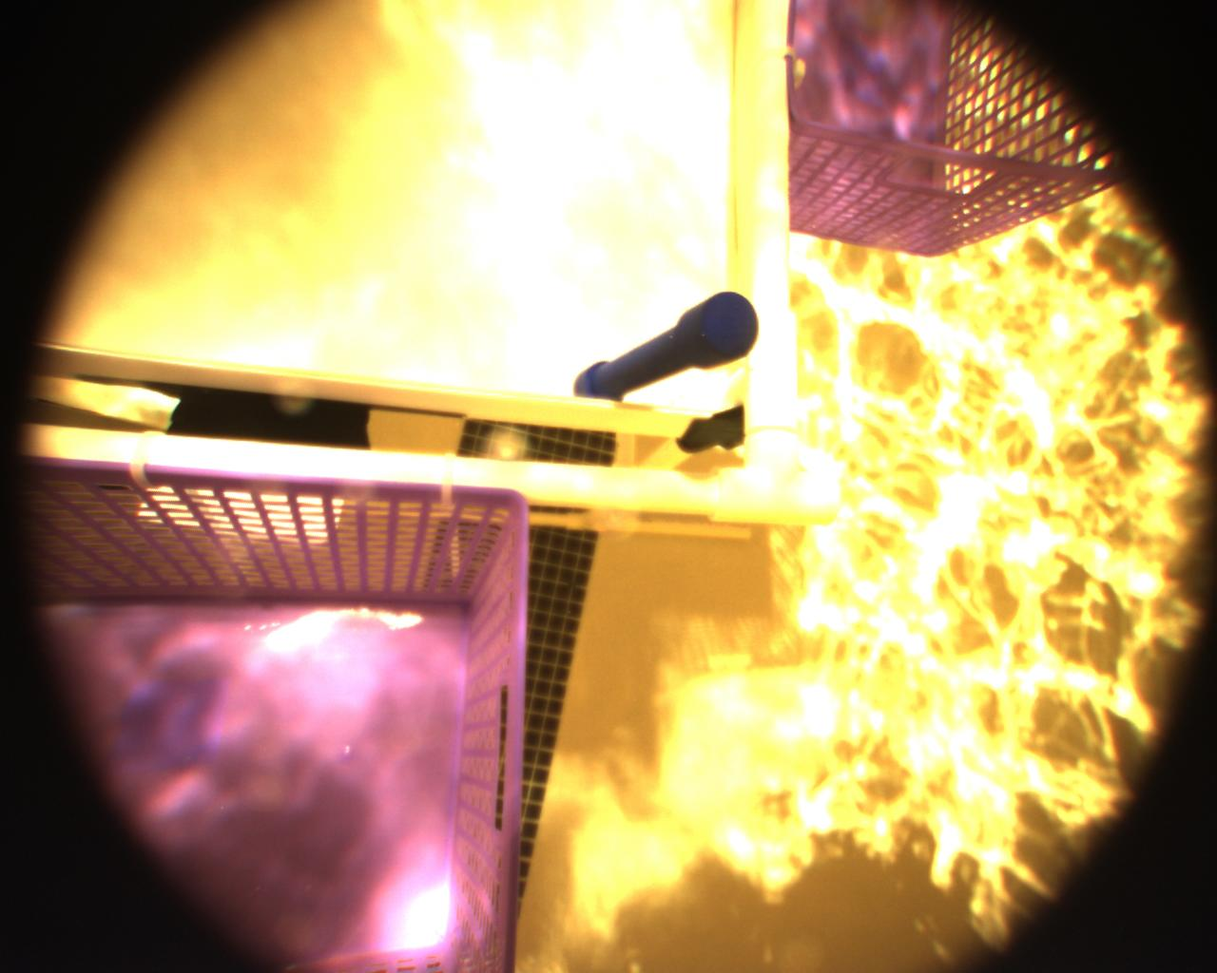coral: (537, 285, 762, 428)
coral-box-top: (0, 0, 825, 522)
